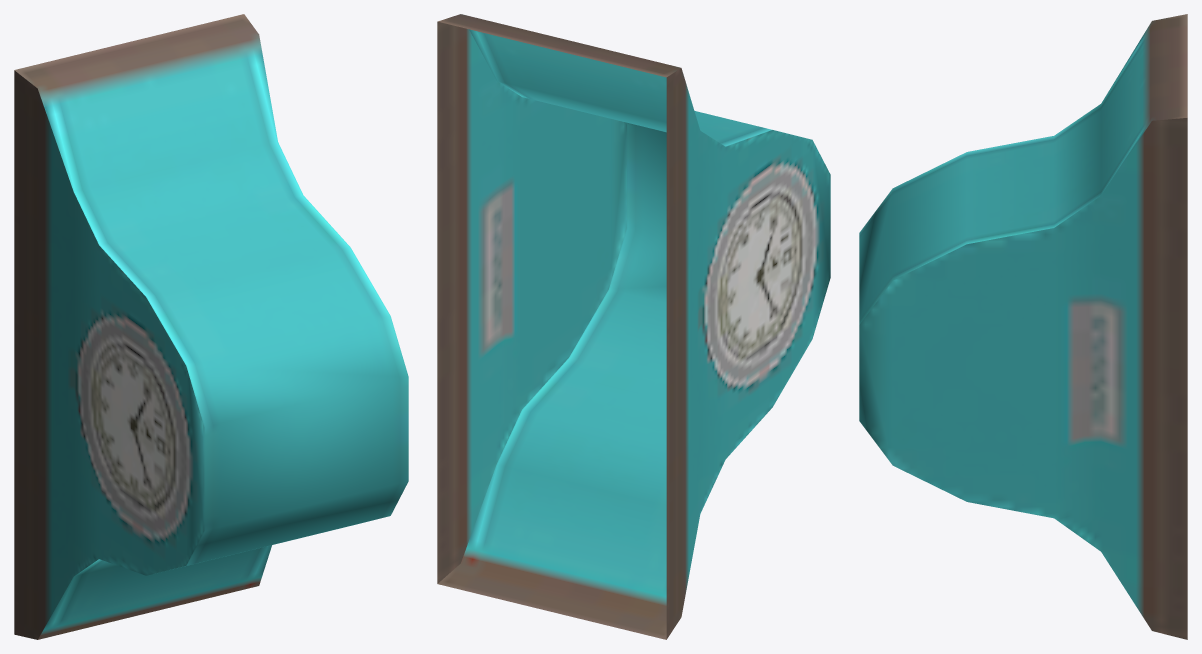
The model's file is nt_2020_clock_table_LOD1.obj.
3 views of the same model, side by side, from view 1: azimuth 30°, elevation 25°; view 2: azimuth 150°, elevation 25°; view 3: azimuth 270°, elevation 25° (orthographic). The views are drawn at different scales.
Parts seen in each view (by area): view 1: mtl_nt_2020_clock_table; view 2: mtl_nt_2020_clock_table; view 3: mtl_nt_2020_clock_table.
Part boxes in pixels (box(x1,y1,x2,y2)): mtl_nt_2020_clock_table: box(14, 14, 408, 639); mtl_nt_2020_clock_table: box(437, 14, 830, 639); mtl_nt_2020_clock_table: box(859, 14, 1187, 639).
Bounding box in the file's own units: 17.13 × 40.18 × 22.88.
